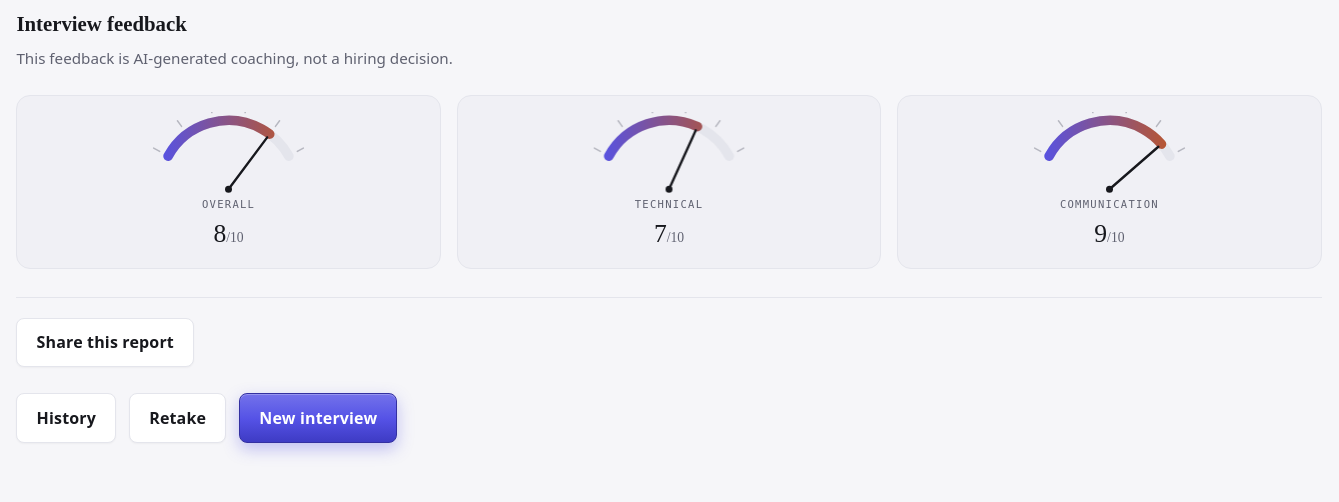
Test: FeedbackReport mints a share link on demand
Click the button "Share this report": x=105, y=342 [16,318,194,367]
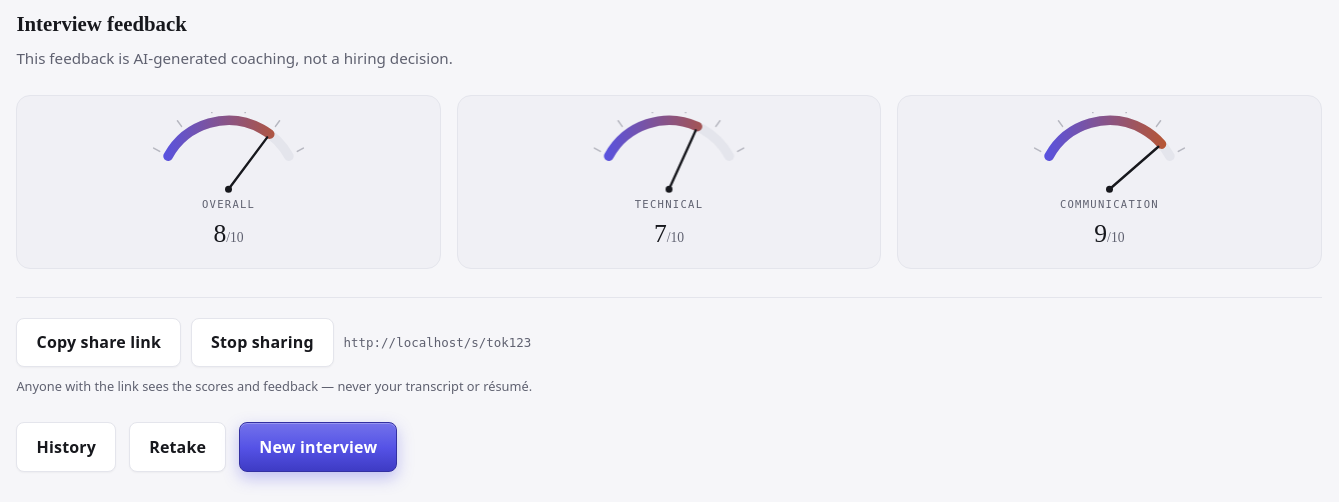
Expected: the text "http://localhost/s/tok123" is shown, [344,333,531,352]
Expected: the button "Stop sharing" is shown, [191,318,334,367]
